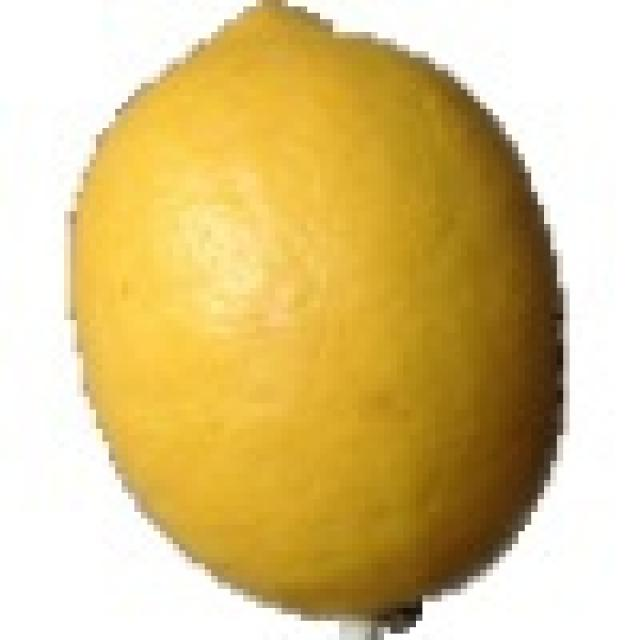lemon: (45, 0, 578, 637)
